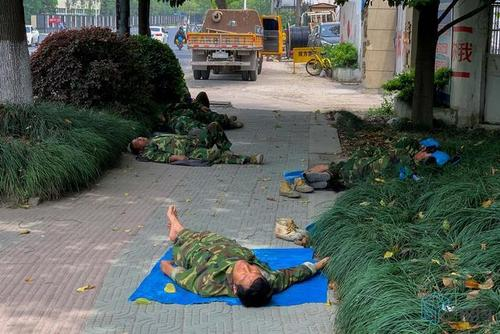fall: (288, 136, 467, 195)
